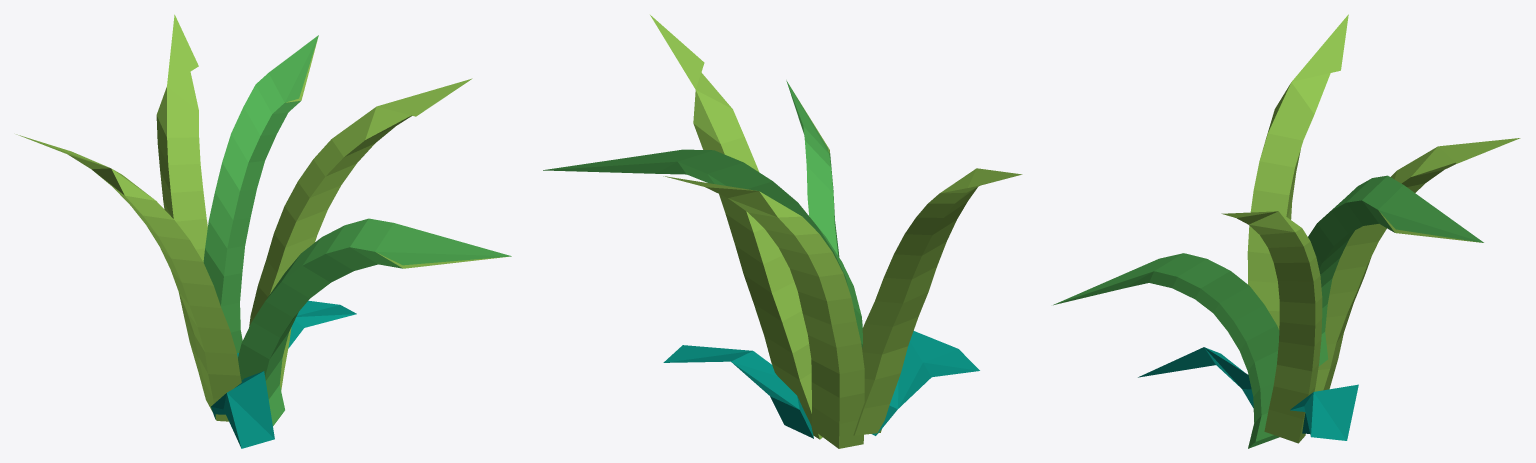
The model's file is grass_04.obj.
3 views of the same model, side by side, from view 1: azimuth 30°, elevation 25°; view 2: azimuth 150°, elevation 25°; view 3: azimuth 270°, elevation 25° (orthographic). The views are drawn at different scales.
Parts seen in each view (by area): view 1: group1957361178, group1633799128, group1204357037, group1184504723, group327488125, group3752167, group348717739; view 2: group327488125, group1204357037, group1184504723, group1633799128, group348717739, group3752167, group1957361178; view 3: group1204357037, group1957361178, group1184504723, group1633799128, group327488125, group348717739, group3752167.
Part boxes in pixels (box(x1,y1,x2,y2)): group1957361178: box(238, 218, 511, 425); group1633799128: box(203, 35, 318, 353); group1204357037: box(249, 78, 472, 390); group1184504723: box(16, 134, 241, 421); group327488125: box(156, 14, 212, 411); group3752167: box(211, 371, 274, 448); group348717739: box(237, 300, 356, 357); group327488125: box(663, 176, 864, 448); group1204357037: box(650, 15, 822, 439); group1184504723: box(853, 168, 1022, 435); group1633799128: box(543, 149, 862, 347); group348717739: box(663, 345, 813, 438); group3752167: box(872, 331, 979, 435); group1957361178: box(786, 80, 839, 256); group1204357037: box(1221, 211, 1322, 443); group1957361178: box(1053, 253, 1279, 448); group1184504723: box(1247, 14, 1348, 329); group1633799128: box(1308, 175, 1483, 366); group327488125: box(1314, 138, 1520, 391); group348717739: box(1290, 384, 1358, 440); group3752167: box(1138, 347, 1253, 407).
Size of the model in its own units: 0.0933 by 0.0718 by 0.0914.
